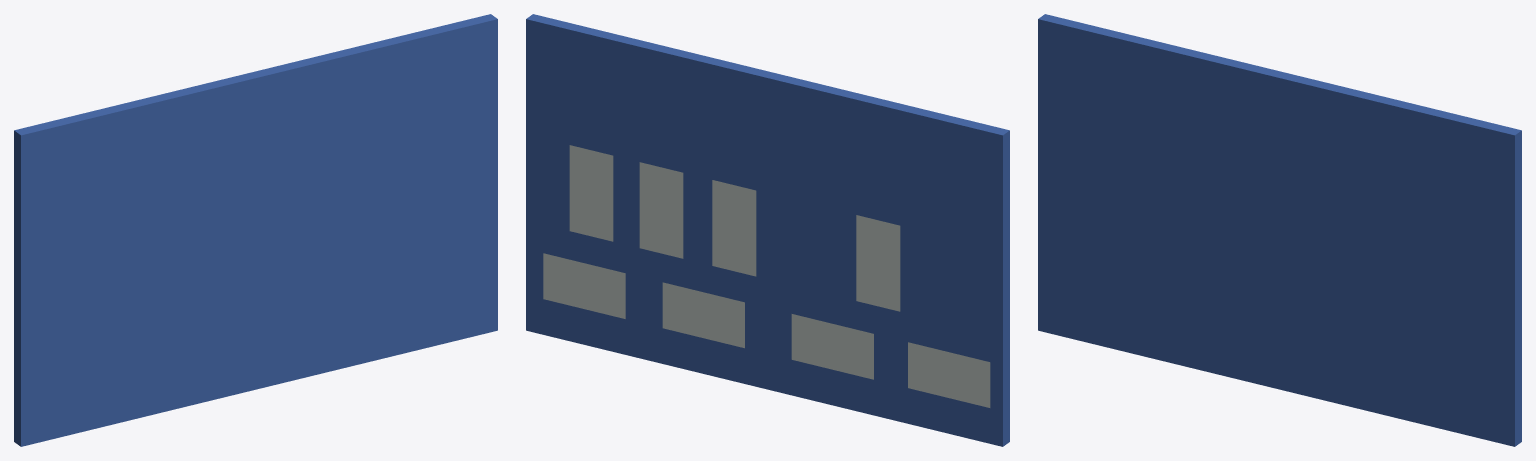
File: SM_Board_01.fbx
3 renders of one model, left to right at view 1: azimuth 30°, elevation 25°; view 2: azimuth 150°, elevation 25°; view 3: azimuth 330°, elevation 25°, orthographic.
Parts seen in each view (by area): view 1: SM_Board_01; view 2: SM_Board_01; view 3: SM_Board_01.
Boxes of the visible parts, x1,y1,x2,y2 form: SM_Board_01: (14, 14, 497, 446); SM_Board_01: (526, 14, 1009, 446); SM_Board_01: (1038, 14, 1521, 446).
Bounding box in the file's own units: 238 × 148 × 7.27.
